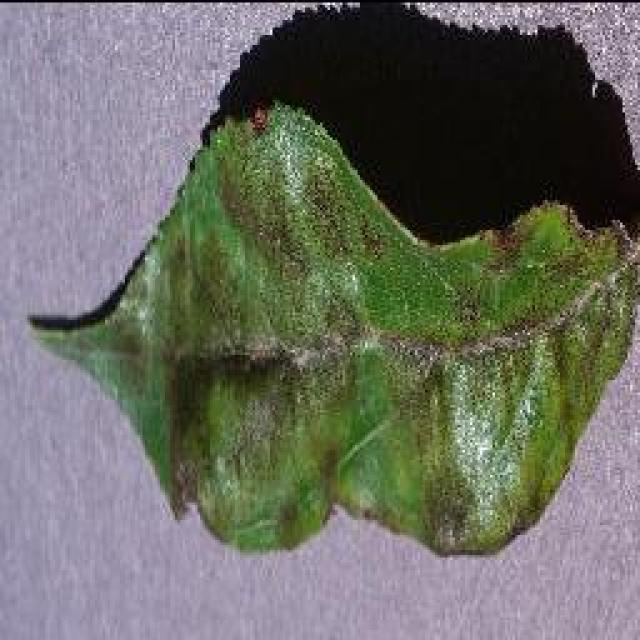apple scab disease: (25, 0, 637, 560)
